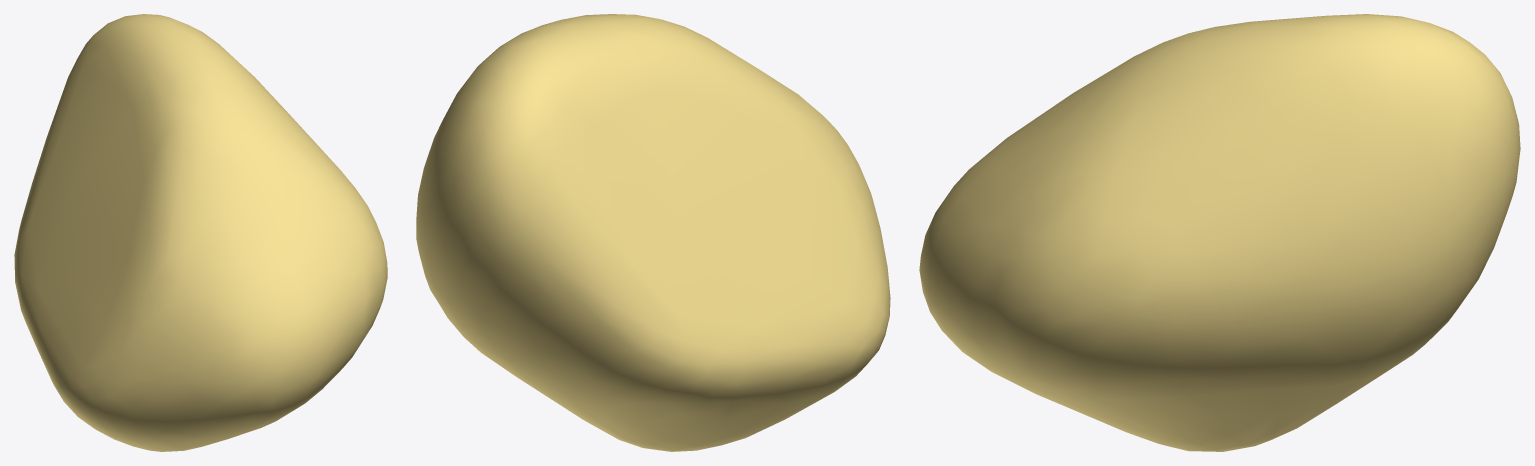
Rendered from fma72871_mm2999.glb.
The picture shows the model from 3 angles, left to right: view 1: azimuth 30°, elevation 25°; view 2: azimuth 150°, elevation 25°; view 3: azimuth 270°, elevation 25°; orthographic projection. The views are drawn at different scales.
Visible parts, largest first — view 1: FMA72871_MM2999; view 2: FMA72871_MM2999; view 3: FMA72871_MM2999.
Part boxes in pixels (x1,y1,x2,y2): FMA72871_MM2999: (14,14,387,451); FMA72871_MM2999: (416,14,890,451); FMA72871_MM2999: (919,14,1520,451).
Size of the model in its own units: 0.0105 by 0.0118 by 0.0141.
